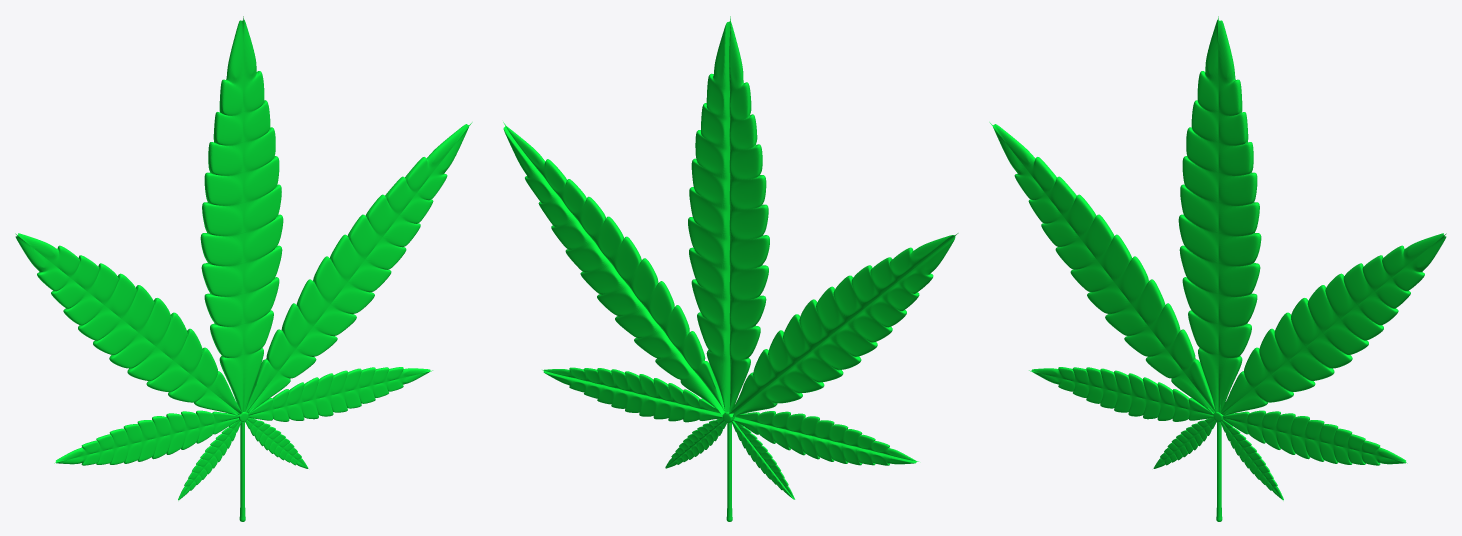
File: leaf.glb
3 renders of one model, left to right at view 1: azimuth 30°, elevation 25°; view 2: azimuth 150°, elevation 25°; view 3: azimuth 330°, elevation 25°, orthographic.
Parts seen in each view (by area): view 1: Leaf; view 2: Leaf; view 3: Leaf.
Part boxes in pixels (x1,y1,x2,y2): Leaf: (15,16,472,521); Leaf: (503,16,958,521); Leaf: (989,16,1446,521).
Size of the model in its own units: 1.98 by 2.1 by 0.0347.
